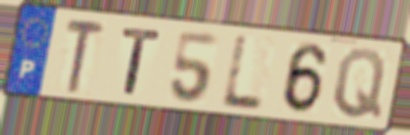5: (167, 28, 218, 106)
6: (281, 41, 332, 117)
L: (218, 33, 265, 113)
Q: (330, 46, 388, 122)
T: (63, 16, 108, 96), (119, 26, 165, 98)
